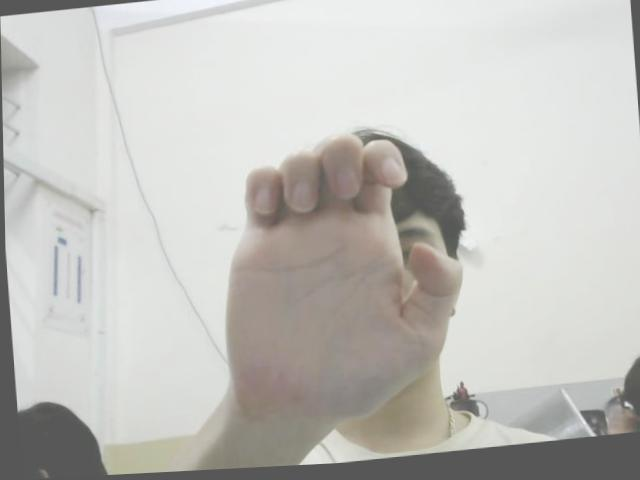E: (211, 125, 471, 428)
